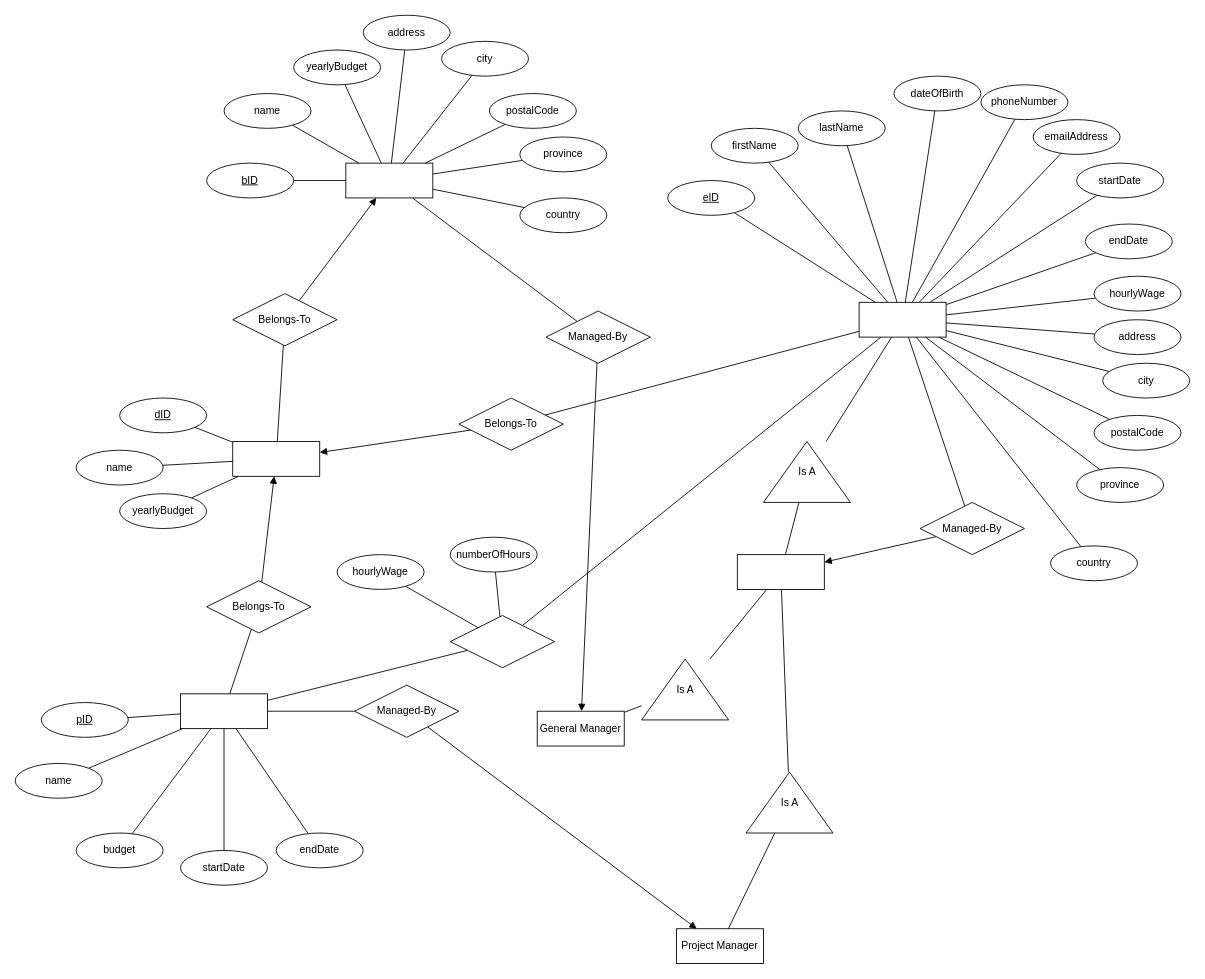
This 1205x979 diagram has some shape labels left out. Each missing label, with the centre of its shape:
Assigned-To: the point at 502,641
Branches: the point at 389,180
Departments: the point at 276,458
Employees: the point at 902,319
Manager: the point at 780,571
Projects: the point at 224,711
